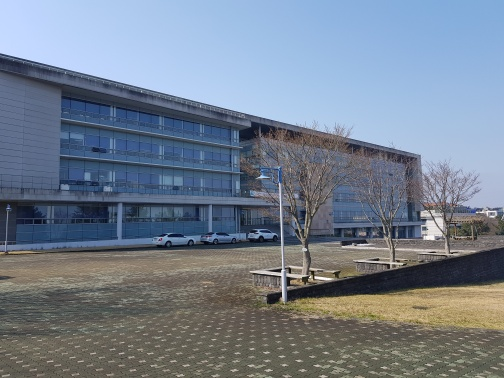Engineering College Building 4: (2, 69, 256, 226), (271, 126, 426, 238)
